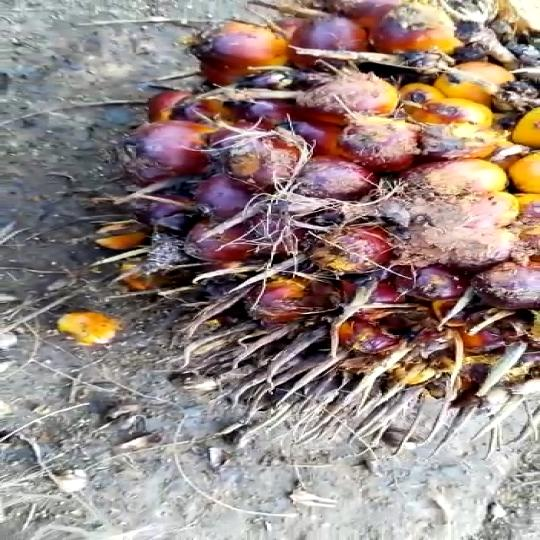masak: (102, 0, 540, 418)
